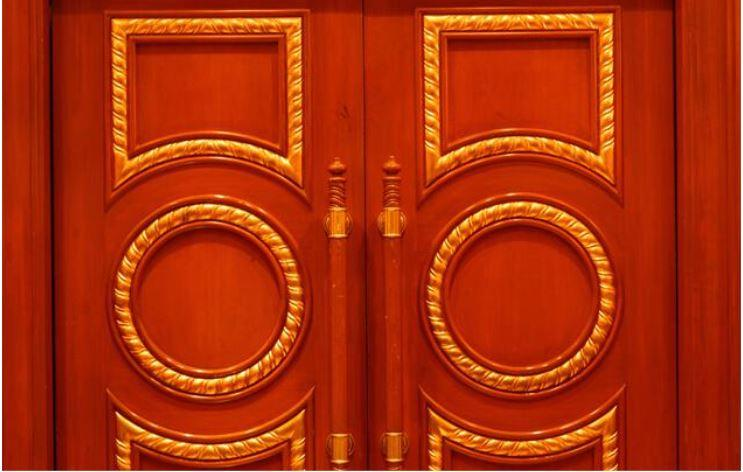door: (356, 0, 743, 472), (0, 9, 370, 472)
